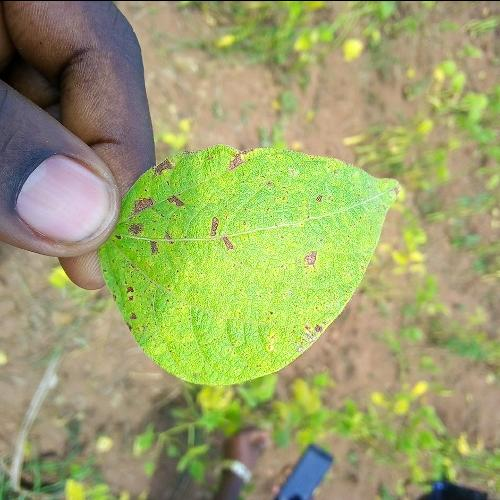hawar: (89, 117, 379, 381)
